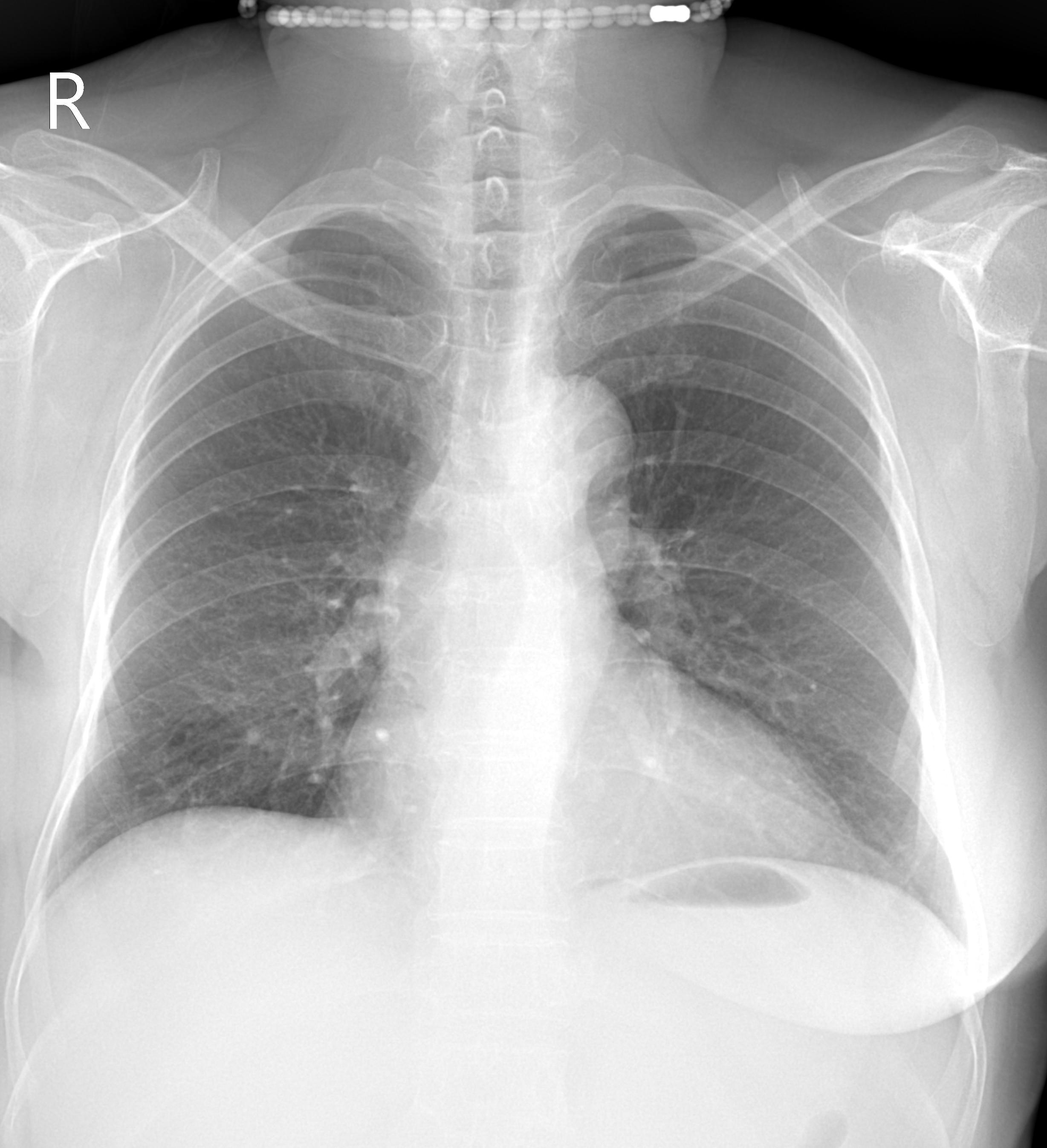Aortic enlargement: (515, 366, 632, 557)
Cardiomegaly: (301, 747, 870, 889)
